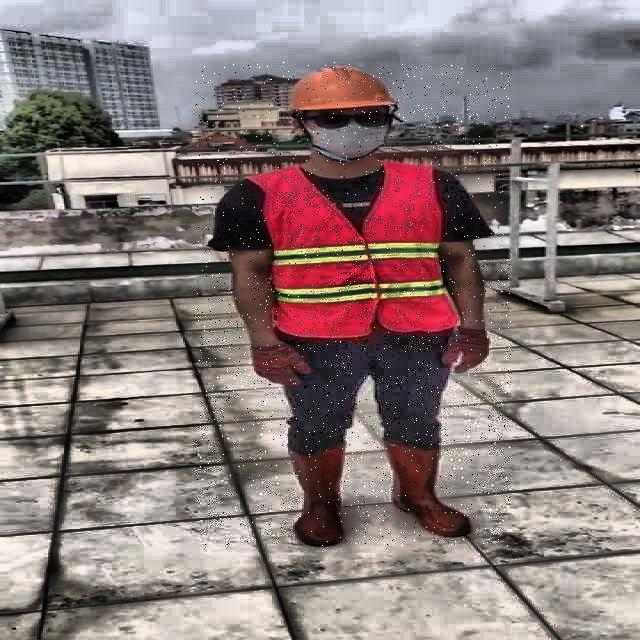safety_helmet: (284, 62, 406, 118)
safety_jacket: (260, 166, 453, 336)
